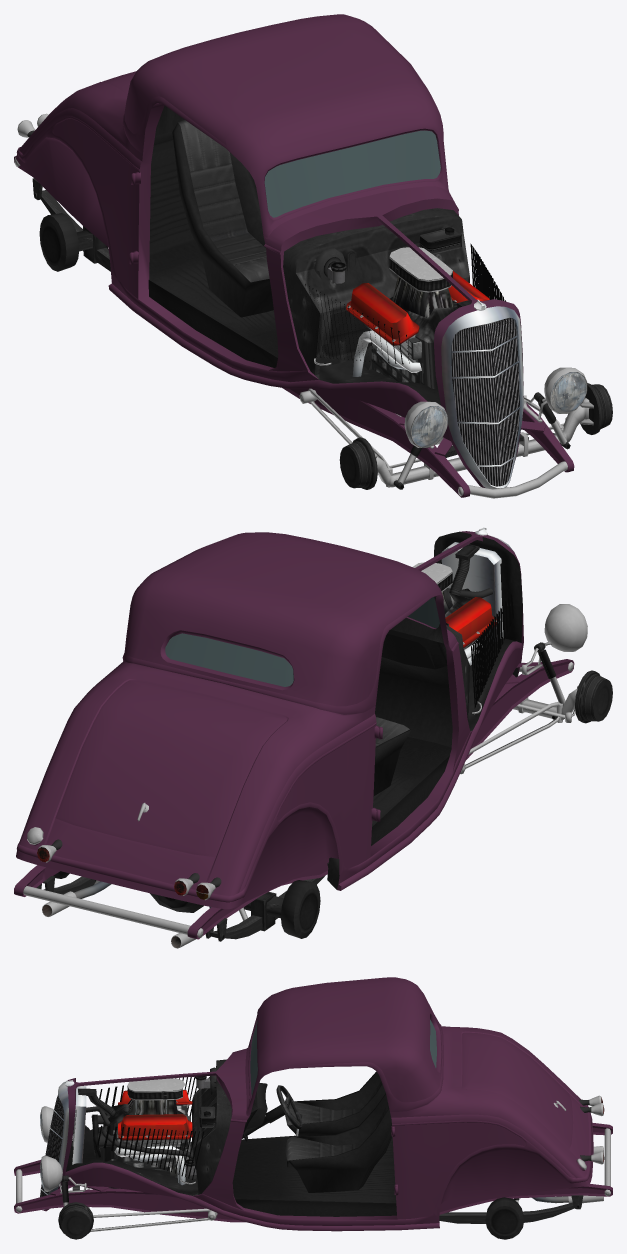
Rendered from Body.obj.
3 views of the same model, one above another, from view 1: azimuth 30°, elevation 25°; view 2: azimuth 150°, elevation 25°; view 3: azimuth 270°, elevation 25° (orthographic). The views are drawn at different scales.
Parts seen in each view (by area): view 1: body; view 2: body; view 3: body.
Part boxes in pixels (box(x1,y1,x2,y2)): body: box(14, 14, 612, 498); body: box(14, 527, 612, 948); body: box(14, 977, 612, 1239).
Bounding box in the file's own units: 24.49 × 25.5 × 68.24.
